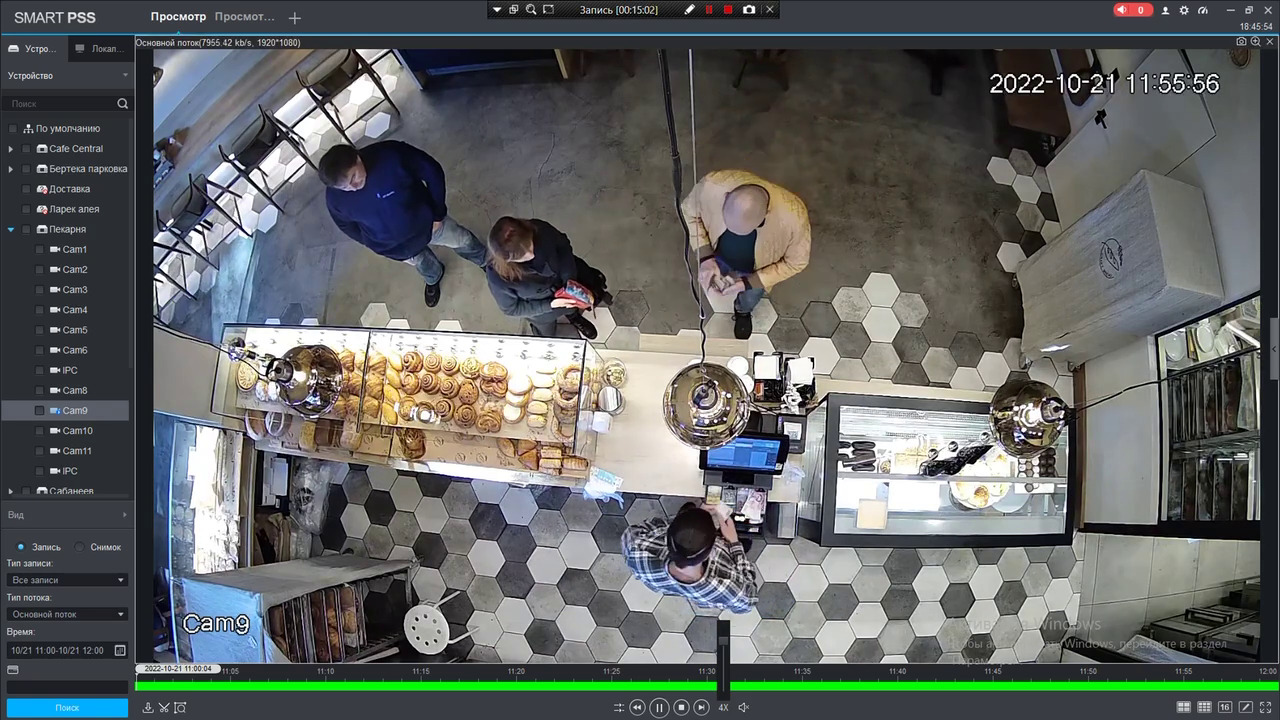openedcash: (698, 431, 789, 544)
person: (673, 173, 818, 341), (616, 480, 769, 621)
